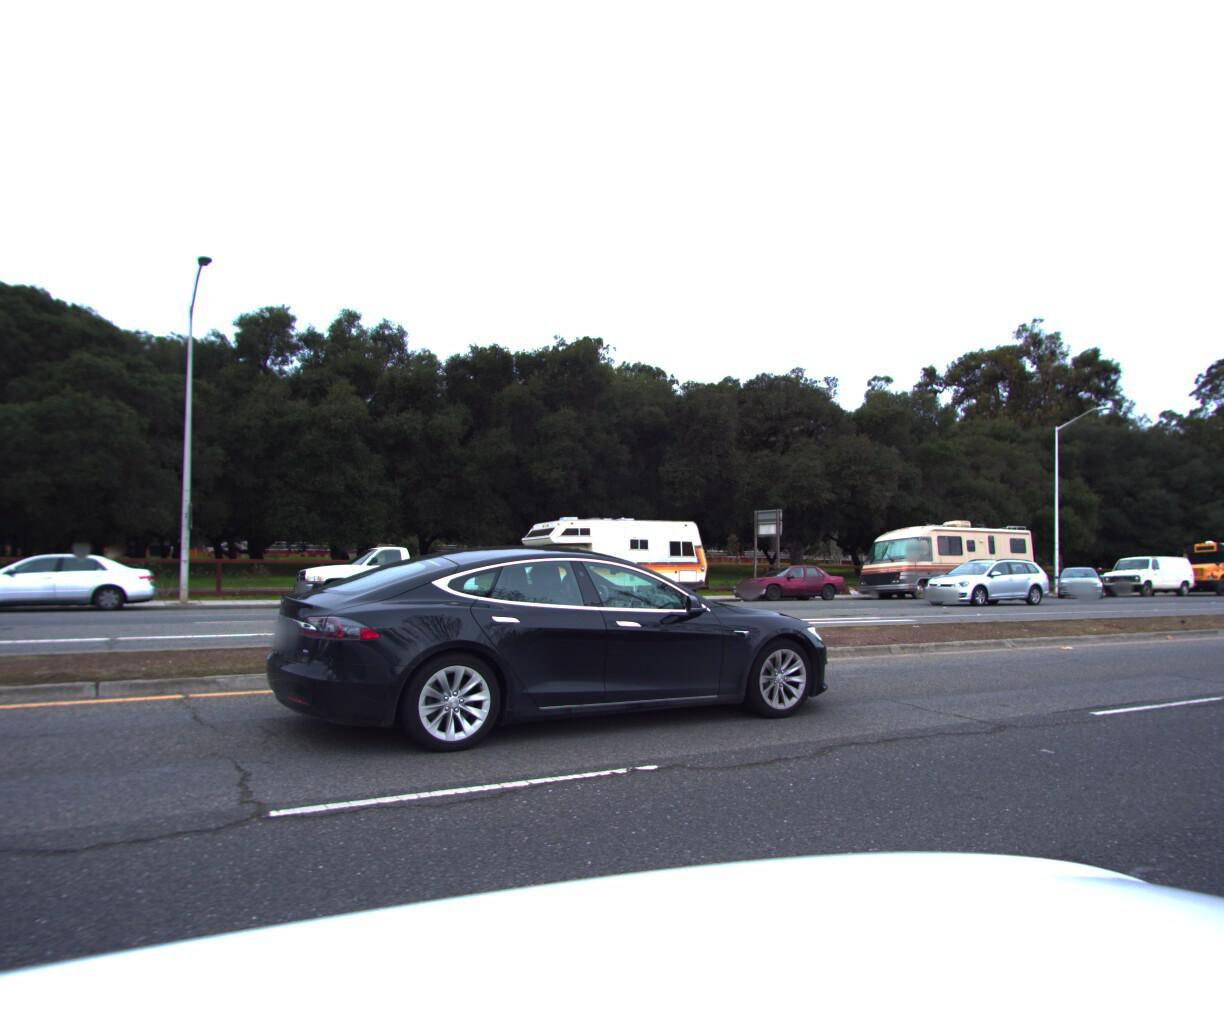bus: (1155, 530, 1224, 595)
car: (263, 528, 850, 768), (282, 539, 489, 612), (0, 542, 168, 615), (915, 552, 1058, 603), (724, 570, 836, 608), (1050, 557, 1102, 593)
other_vehicle: (501, 504, 719, 608)
truck: (844, 506, 1044, 601), (1092, 546, 1205, 595)
